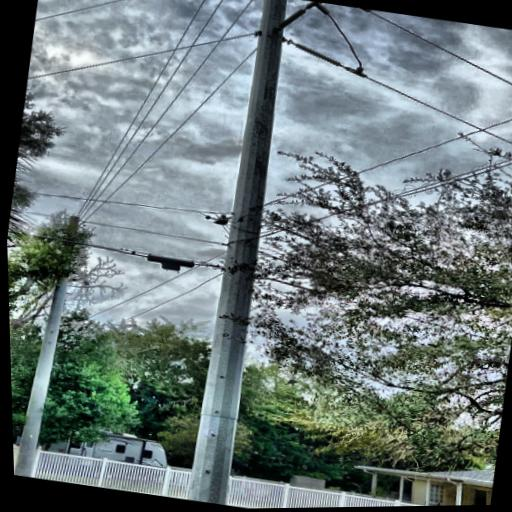pole: (161, 0, 311, 506)
